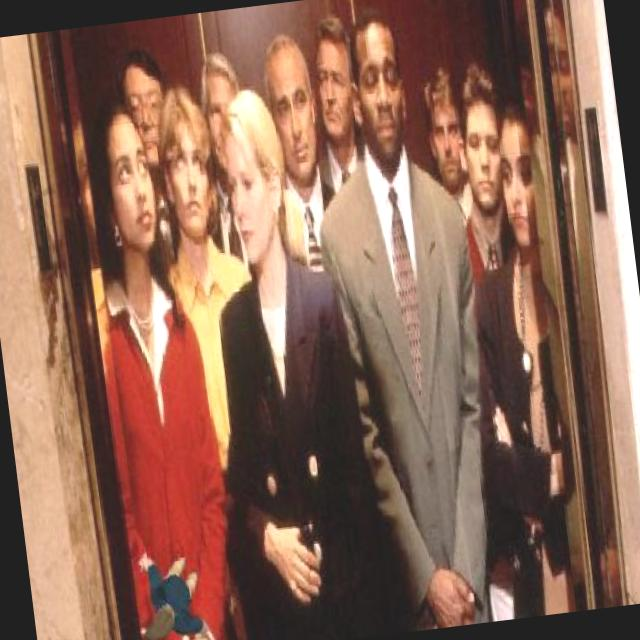Person: (134, 542, 212, 640)
